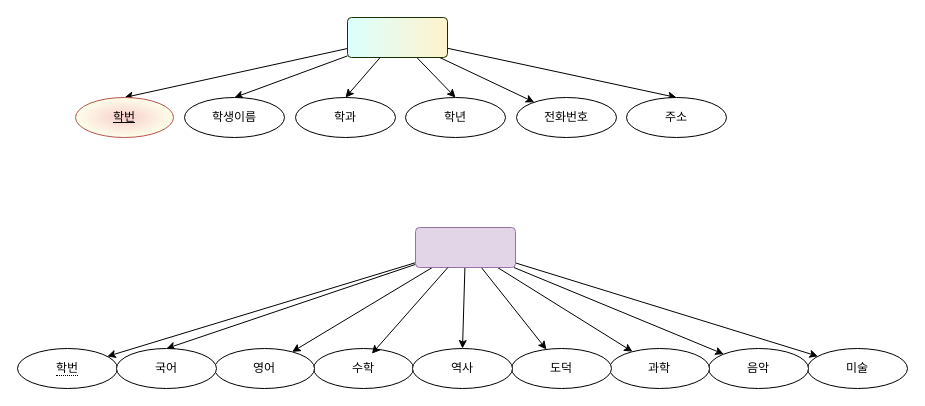
This 925x406 diagram has some shape labels left out. Each missing label, with the centre of its shape:
"성적" belongs at point 465,247.
"학생정보" belongs at point 397,37.
